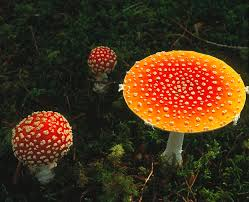Amanita muscaria: (122, 47, 246, 156), (8, 110, 72, 180), (88, 44, 117, 87)
